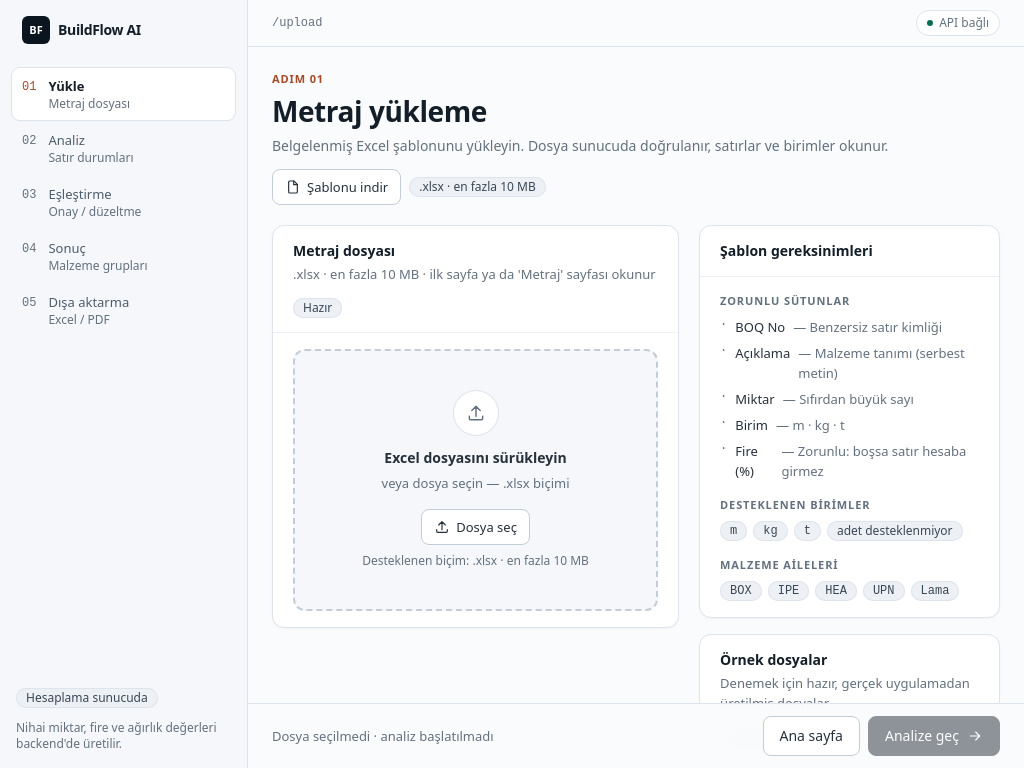
Test: UploadPage › şablon indirme hatasını ayrı gösterir
Click the button "Şablonu indir": [337, 187] box [272,169,401,205]
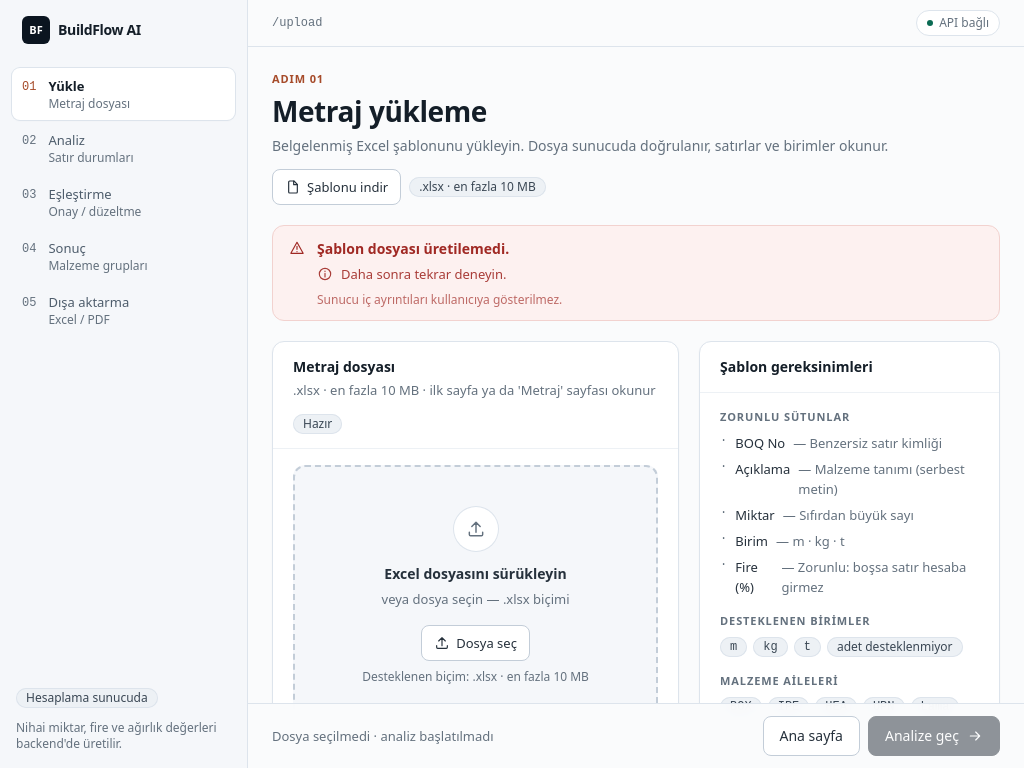
Check: the text "Şablon dosyası üretilemedi." is shown, box [317,239,509,258]
